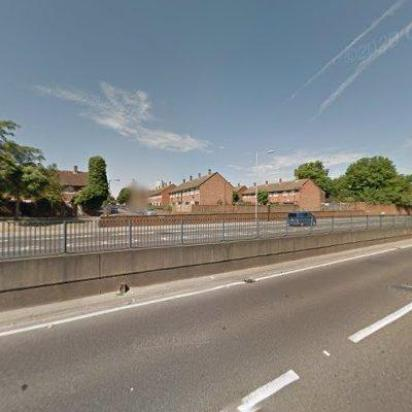moving-light-truck: (287, 210, 317, 228)
